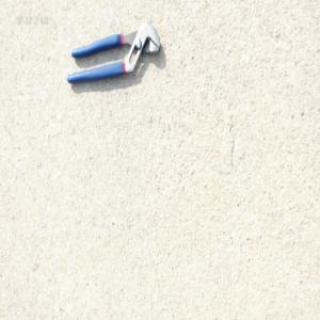Pliertrack_idkeyframe: (65, 20, 160, 86)
